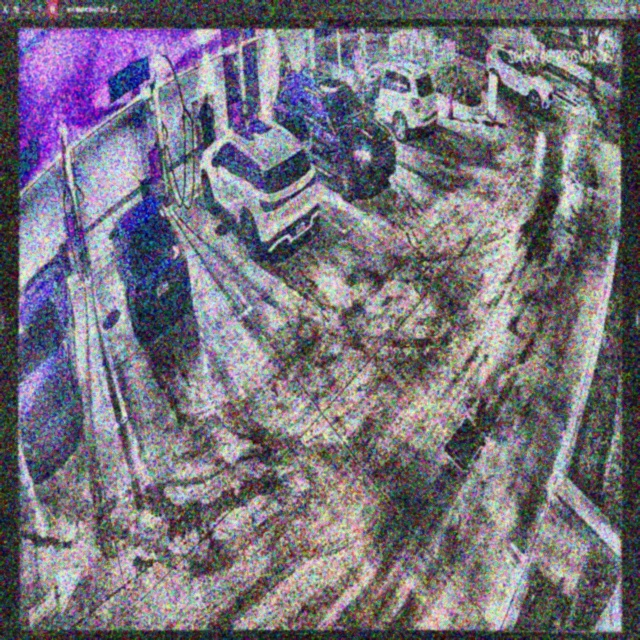Car: (200, 119, 325, 256), (273, 69, 395, 197), (112, 189, 193, 334)
